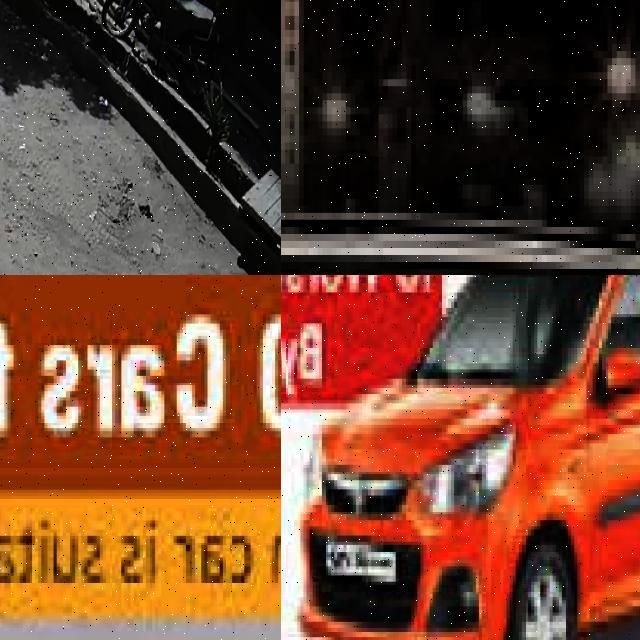bike: (101, 0, 219, 103)
car: (294, 275, 640, 640), (281, 58, 640, 275)
